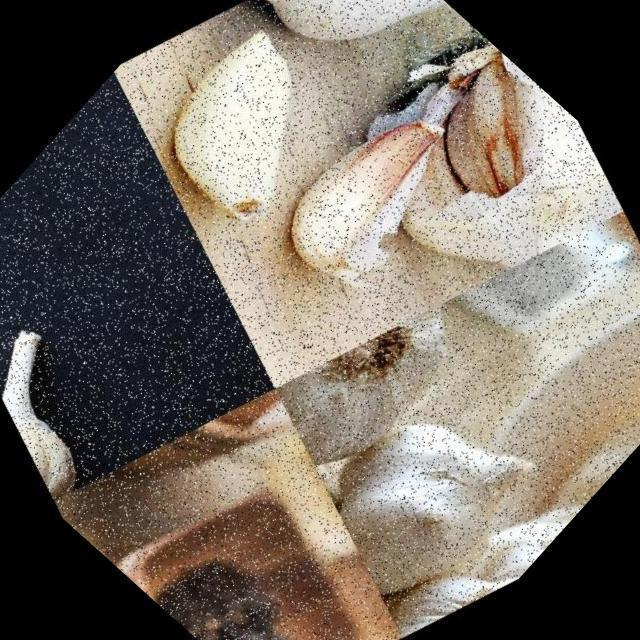garlic: (281, 0, 640, 349), (270, 322, 609, 640), (224, 54, 517, 350), (93, 0, 383, 276), (250, 252, 520, 526), (0, 308, 151, 516)
